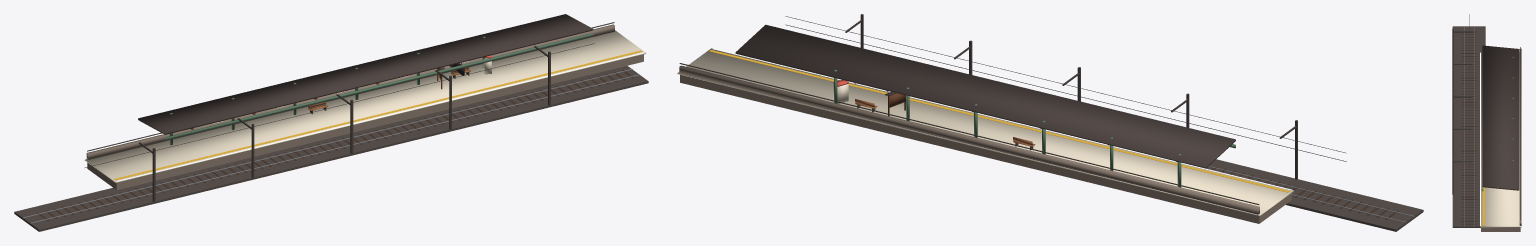
File: station_platform.glb
3 views of the same model, side by side, from view 1: azimuth 30°, elevation 25°; view 2: azimuth 150°, elevation 25°; view 3: azimuth 270°, elevation 25° (orthographic). The views are drawn at different scales.
Parts seen in each view (by area): view 1: Platform_Deck_Top, Track_Ballast_Bed, Canopy_Roof_Main, Platform_Base_Wall, Platform_Back_LowWall, Track_Sleepers, Canopy_Fascia_Beam, Platform_Tactile_Strip, Track_Rail_R, Track_Rail_L, Platform_White_Edge, Catenary_Wire_Main (+1 smaller); view 2: Canopy_Roof_Main, Platform_Deck_Top, Platform_Back_LowWall, Platform_Base_Wall, Track_Ballast_Bed, Platform_Tactile_Strip, Platform_Back_FenceRail, Platform_White_Edge, Catenary_Wire_Main, Catenary_Wire_Top, Track_Sleepers; view 3: Track_Ballast_Bed, Canopy_Roof_Main, Platform_Deck_Top, Track_Sleepers, Platform_Back_LowWall, Track_Rail_R, Platform_Base_Wall, Track_Rail_L, Platform_Back_FenceRail, Platform_White_Edge, Catenary_Wire_Top, Platform_Tactile_Strip (+5 smaller).
Boxes of the visible parts, left/top/right/bottom form: Platform_Deck_Top: left=85, top=30, right=646, bottom=182; Track_Ballast_Bed: left=14, top=65, right=648, bottom=231; Canopy_Roof_Main: left=138, top=14, right=593, bottom=134; Platform_Base_Wall: left=87, top=54, right=643, bottom=189; Platform_Back_LowWall: left=86, top=24, right=614, bottom=159; Track_Sleepers: left=37, top=70, right=633, bottom=220; Canopy_Fascia_Beam: left=164, top=33, right=593, bottom=140; Platform_Tactile_Strip: left=114, top=50, right=642, bottom=180; Track_Rail_R: left=23, top=69, right=632, bottom=218; Track_Rail_L: left=30, top=74, right=639, bottom=223; Platform_White_Edge: left=117, top=52, right=644, bottom=181; Catenary_Wire_Main: left=84, top=43, right=594, bottom=167; Canopy_Roof_Main: left=735, top=24, right=1235, bottom=168; Platform_Deck_Top: left=677, top=48, right=1293, bottom=216; Platform_Back_LowWall: left=679, top=65, right=1259, bottom=214; Platform_Base_Wall: left=680, top=75, right=1291, bottom=223; Track_Ballast_Bed: left=1206, top=159, right=1423, bottom=231; Platform_Tactile_Strip: left=709, top=50, right=1289, bottom=192; Platform_Back_FenceRail: left=679, top=63, right=1259, bottom=204; Platform_White_Edge: left=713, top=48, right=1291, bottom=190; Catenary_Wire_Main: left=785, top=24, right=1346, bottom=161; Catenary_Wire_Top: left=785, top=16, right=1346, bottom=153; Track_Sleepers: left=1211, top=166, right=1398, bottom=219; Track_Ballast_Bed: left=1452, top=26, right=1485, bottom=227; Canopy_Roof_Main: left=1482, top=45, right=1519, bottom=190; Platform_Deck_Top: left=1480, top=52, right=1521, bottom=227; Track_Sleepers: left=1461, top=31, right=1476, bottom=224; Platform_Back_LowWall: left=1519, top=48, right=1521, bottom=225; Track_Rail_R: left=1474, top=26, right=1474, bottom=226; Platform_Base_Wall: left=1481, top=227, right=1520, bottom=231; Track_Rail_L: left=1464, top=26, right=1464, bottom=226; Platform_Back_FenceRail: left=1520, top=47, right=1520, bottom=220; Platform_White_Edge: left=1480, top=52, right=1480, bottom=225; Catenary_Wire_Top: left=1469, top=14, right=1469, bottom=181; Platform_Tactile_Strip: left=1482, top=187, right=1484, bottom=225.
Size of the model in its own units: 76.2 by 6.41 by 10.89.
